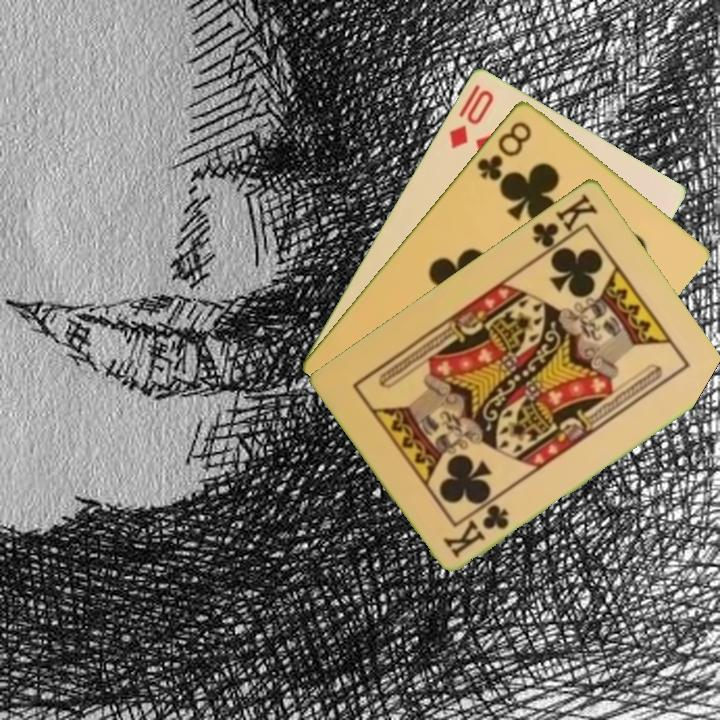10d: (445, 80, 497, 152)
8c: (473, 117, 535, 184)
Kc: (528, 189, 601, 259), (440, 500, 512, 561)
